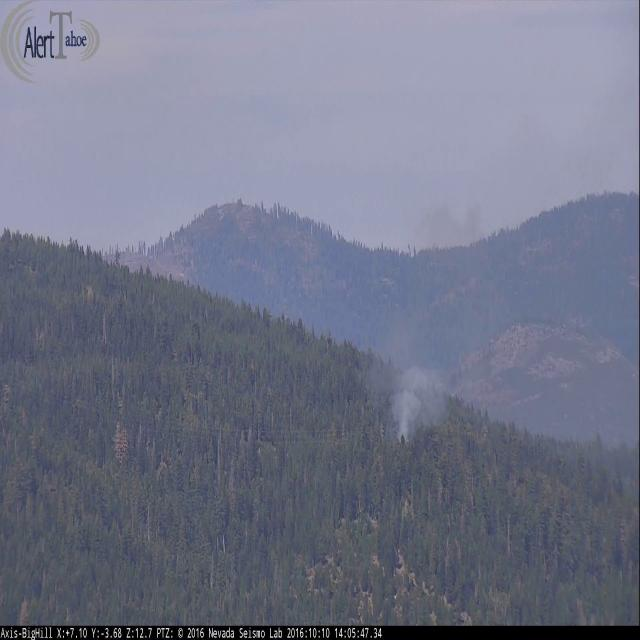smoke: (372, 353, 455, 446)
